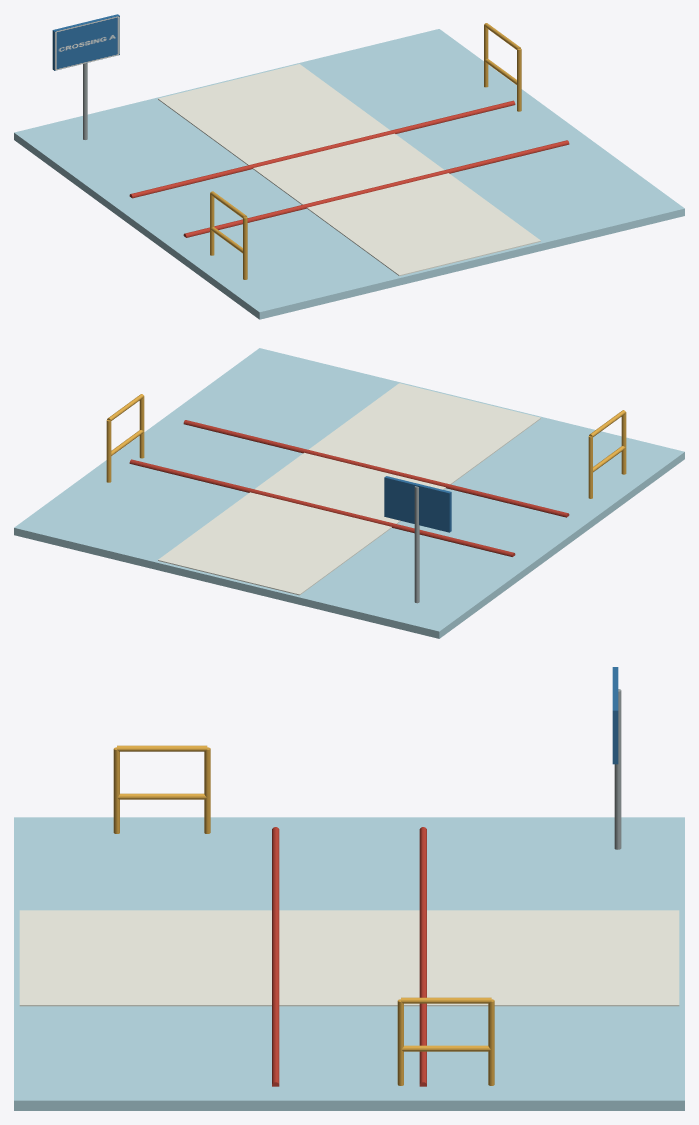
Rendered from scendance-plan-course-crossroad-a.glb.
The picture shows the model from 3 angles, top to bottom: view 1: azimuth 30°, elevation 25°; view 2: azimuth 150°, elevation 25°; view 3: azimuth 270°, elevation 25°; orthographic projection. The views are drawn at different scales.
Size of the model in its own units: 6 by 1.67 by 6.
8 materials, 1 textured.
